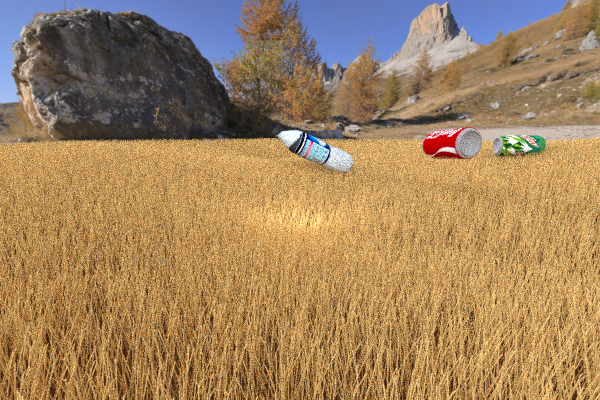bottle: (271, 127, 354, 174)
can: (422, 127, 482, 159), (492, 135, 546, 156)
